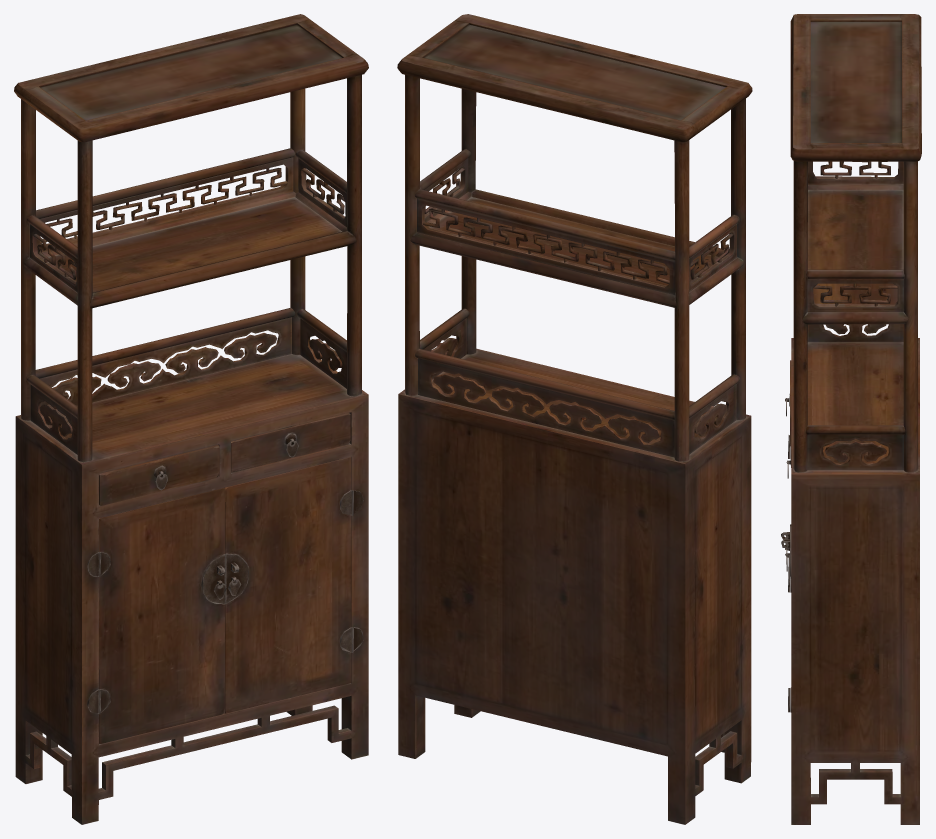
Rendered from chinese_cabinet.glb.
3 views of the same model, side by side, from view 1: azimuth 30°, elevation 25°; view 2: azimuth 150°, elevation 25°; view 3: azimuth 270°, elevation 25° (orthographic). The views are drawn at different scales.
Parts seen in each view (by area): view 1: Cube.013, chinese_cabinet; view 2: Cube.013; view 3: Cube.013, chinese_cabinet.
Boxes of the visible parts, x1,y1,x2,y2 form: Cube.013: (14, 14, 368, 824); chinese_cabinet: (99, 413, 353, 743); Cube.013: (397, 14, 752, 824); Cube.013: (790, 14, 921, 824); chinese_cabinet: (781, 360, 791, 712).
Bounding box in the file's own units: 1.26 × 2.87 × 0.5432.
Materials: 1 (1 with a texture image).
